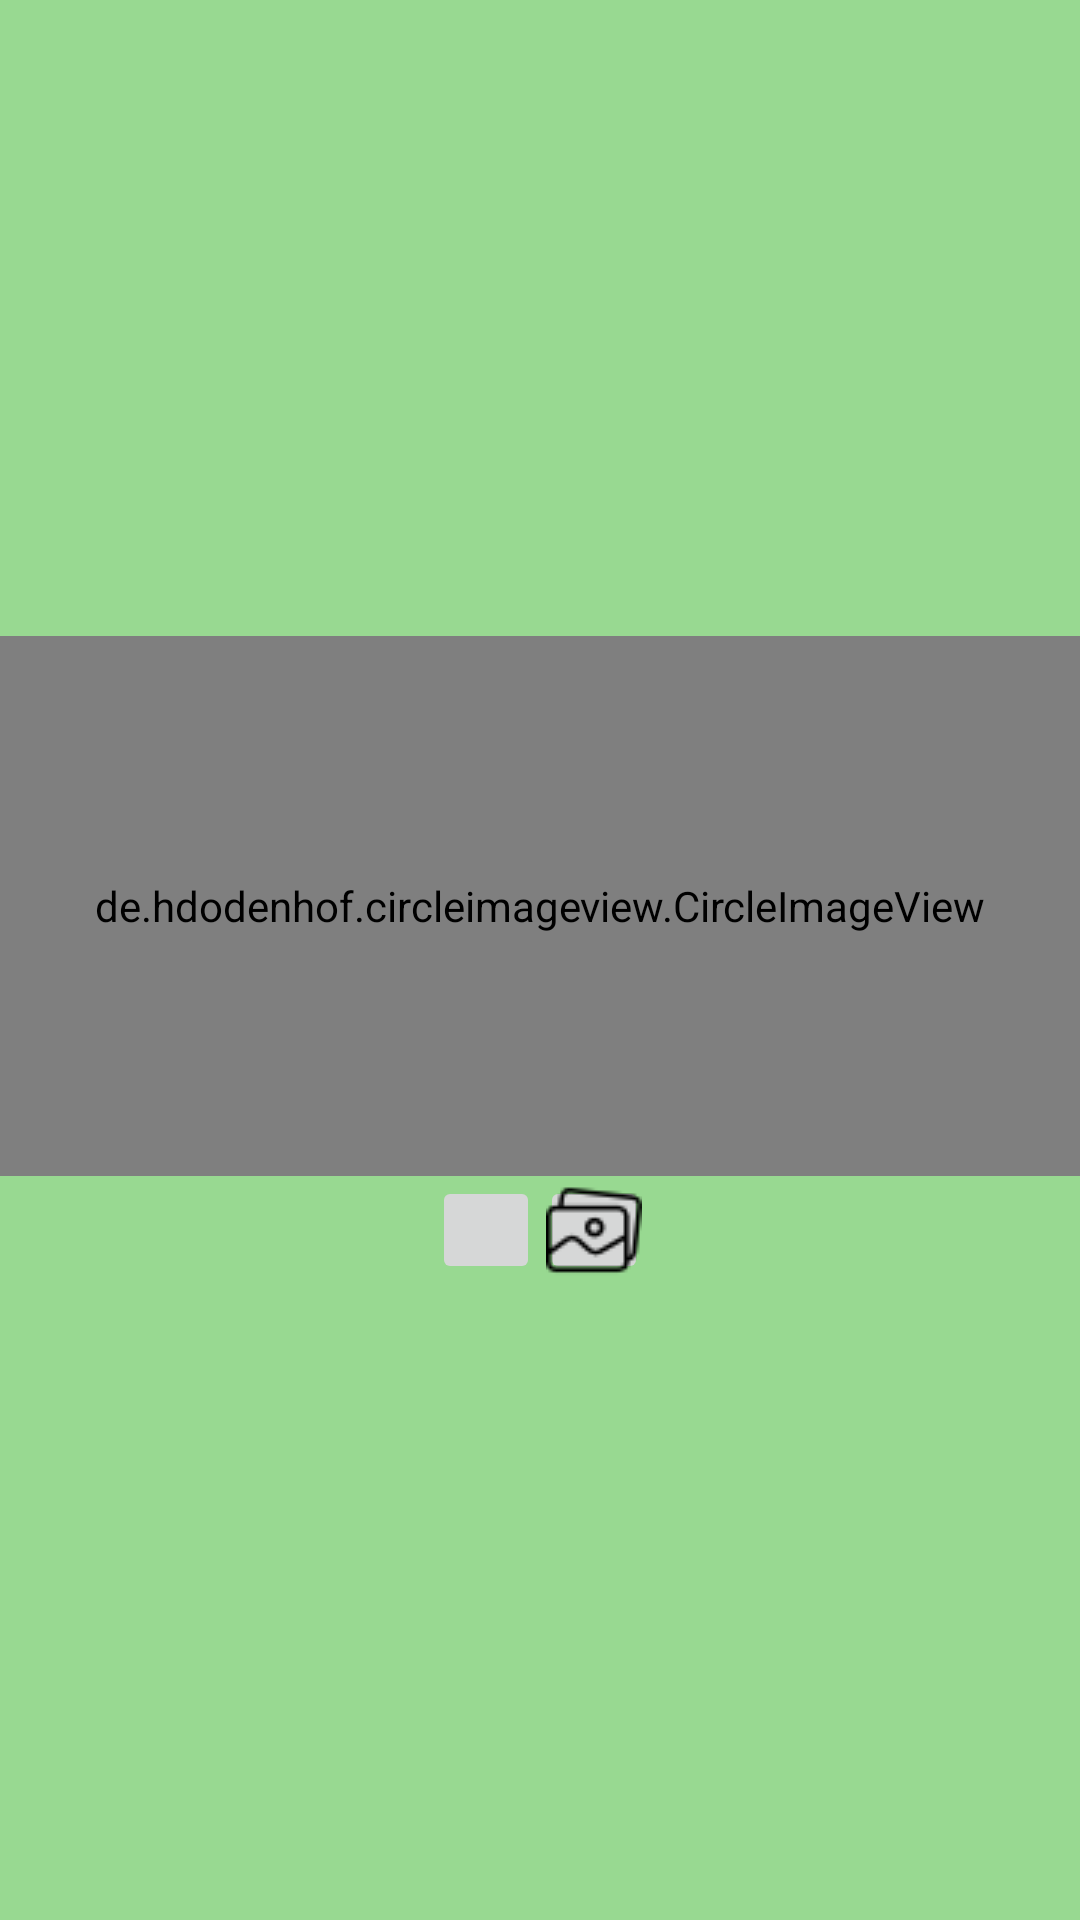

Where to tap for icons on this 1080*1920 app screen, as point (x, y):
gallery: point (594, 1230)
